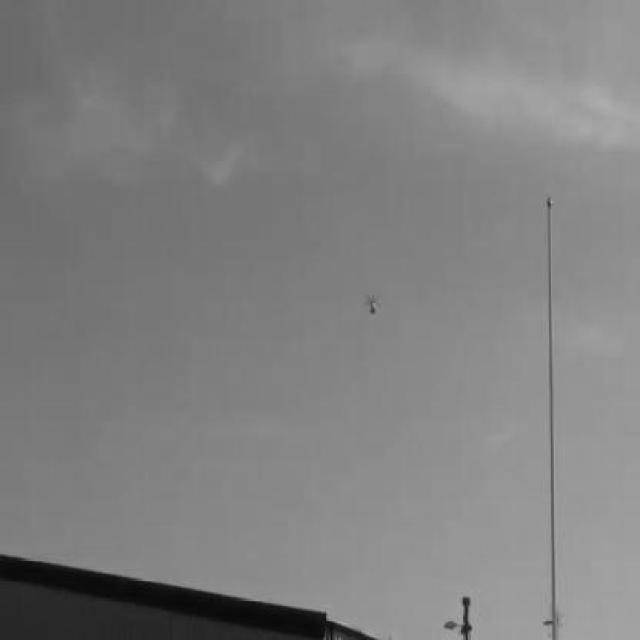helikopter: (366, 294, 379, 316)
